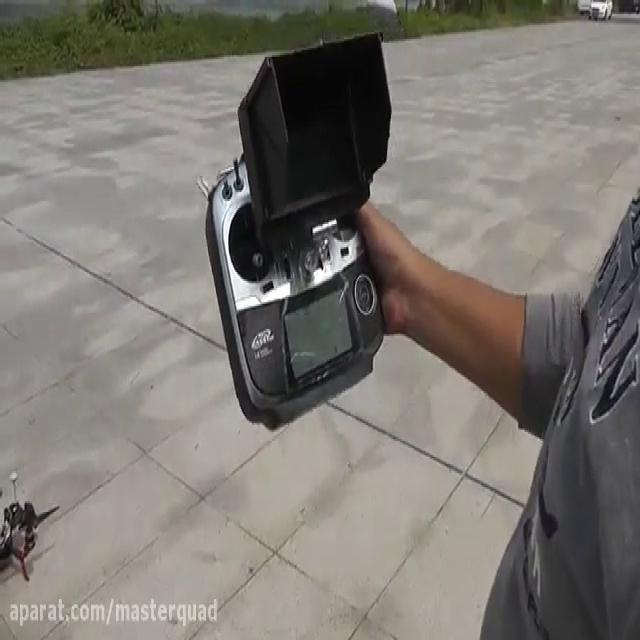drone: (0, 464, 59, 588)
